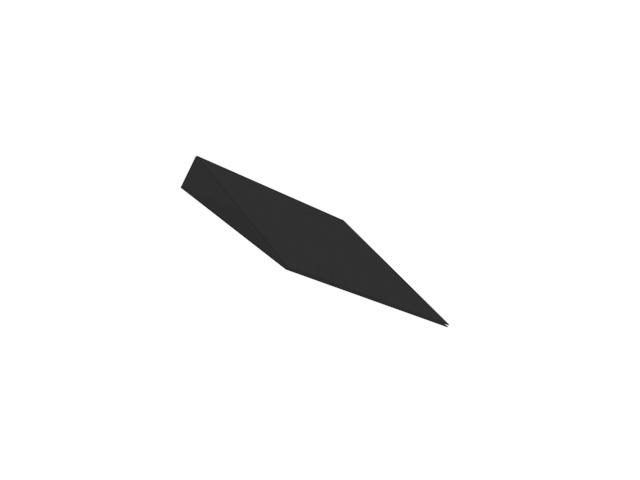ring_binder: (177, 153, 456, 328)
